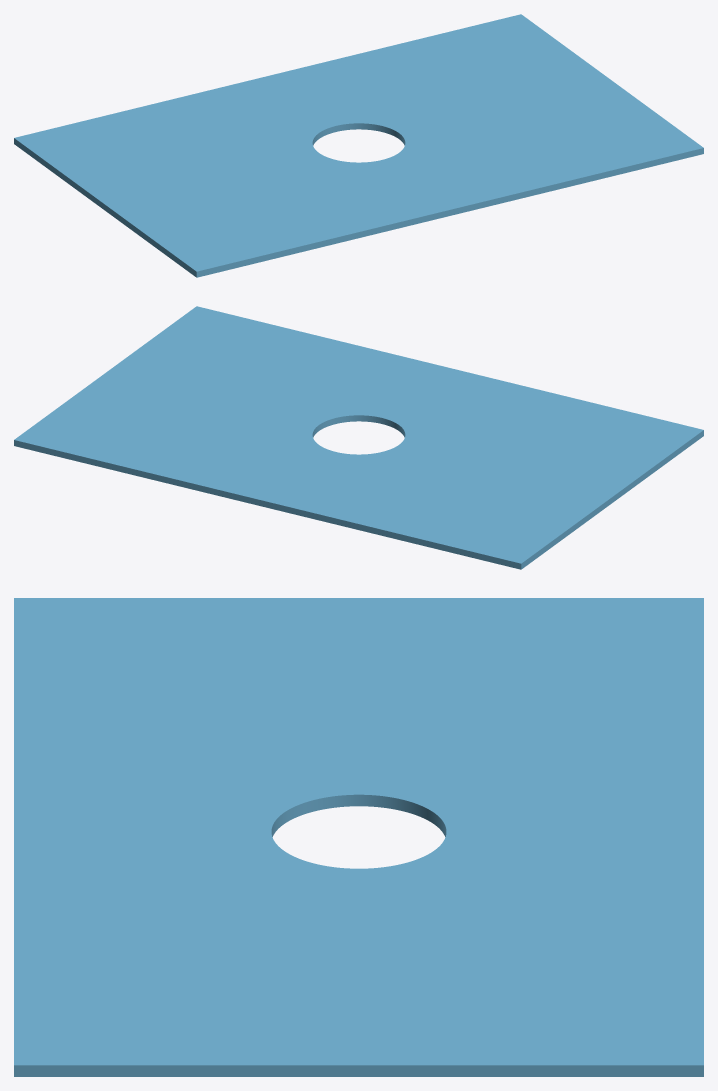
The picture shows the model from 3 angles, top to bottom: view 1: azimuth 30°, elevation 25°; view 2: azimuth 150°, elevation 25°; view 3: azimuth 270°, elevation 25°; orthographic projection. The views are drawn at different scales.
Parts seen in each view (by area): view 1: G02_body; view 2: G02_body; view 3: G02_body.
Boxes of the visible parts, x1,y1,x2,y2 form: G02_body: [14, 14, 703, 277]; G02_body: [14, 306, 703, 569]; G02_body: [14, 598, 703, 1076].
Bounding box in the file's own units: 150 × 1.73 × 93.89.
